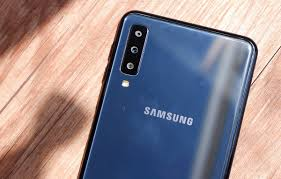samsung: (73, 8, 259, 179)
